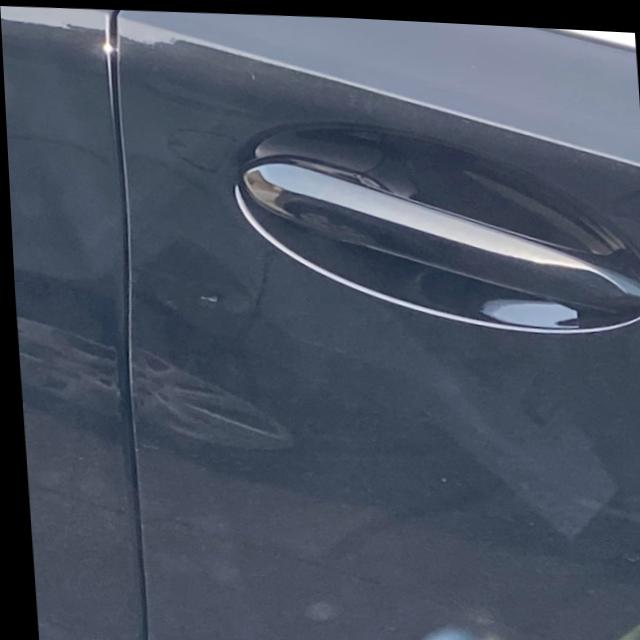Dent: (151, 256, 279, 345)
